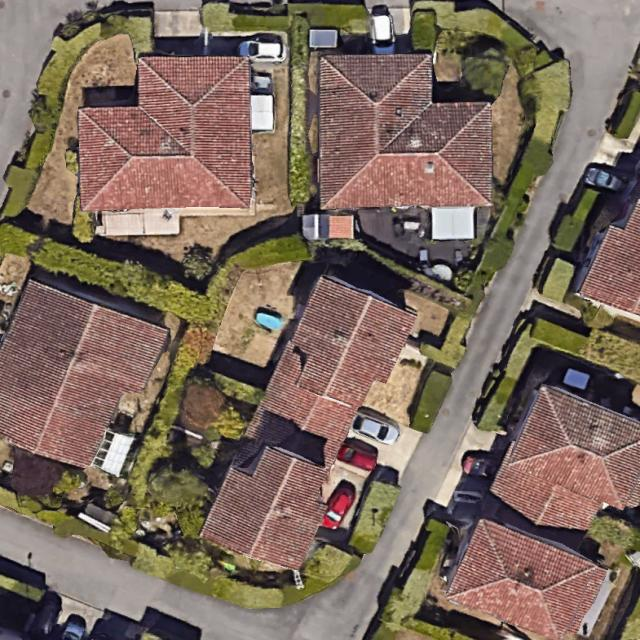maison: (198, 269, 417, 580), (0, 277, 171, 483), (319, 54, 492, 208), (78, 56, 252, 209), (444, 514, 608, 640), (501, 379, 640, 520), (580, 201, 639, 315)
